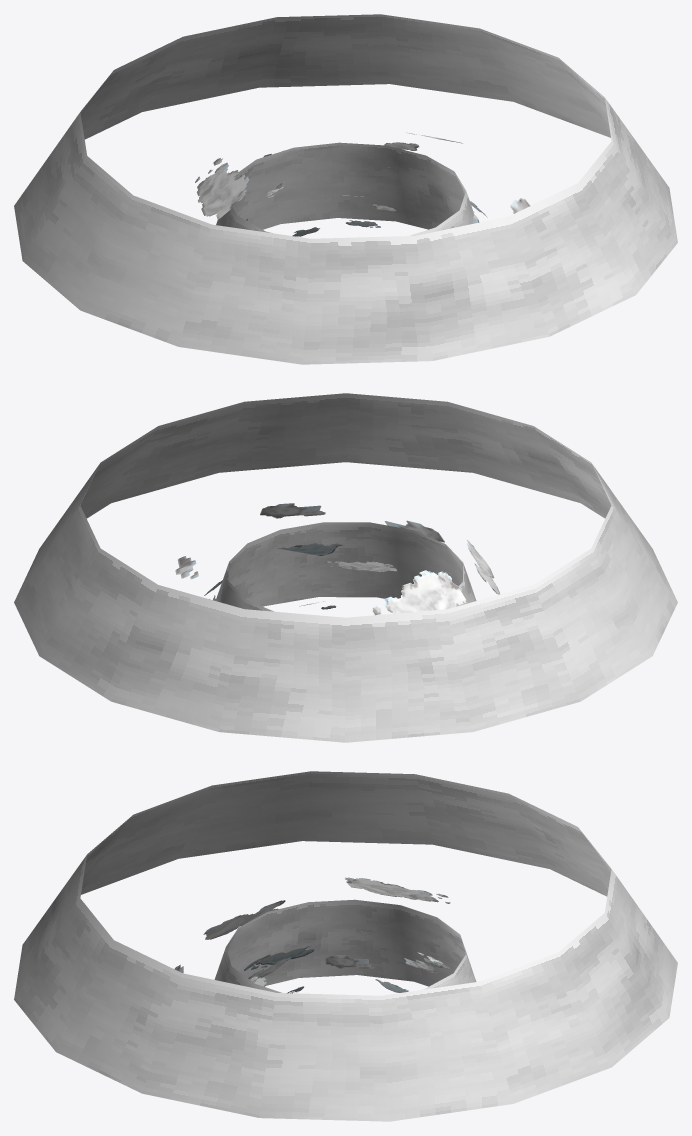
Rendered from Clouds.fbx.
The picture shows the model from 3 angles, top to bottom: view 1: azimuth 30°, elevation 25°; view 2: azimuth 150°, elevation 25°; view 3: azimuth 270°, elevation 25°; orthographic projection.
Visible parts, largest first — view 1: Clouds, Clouds_Back; view 2: Clouds, Clouds_Back, Plane_2; view 3: Clouds, Clouds_Back.
Part boxes in pixels (box(x1,y1,x2,y2)): Clouds: box(14, 14, 677, 364); Clouds_Back: box(195, 132, 530, 223); Clouds: box(14, 393, 677, 742); Clouds_Back: box(175, 503, 499, 615); Plane_2: box(324, 561, 396, 571); Clouds: box(14, 771, 677, 1121); Clouds_Back: box(174, 877, 450, 972).
Bounding box in the file's own units: 75363 × 19400 × 75363.
2 materials, 2 textured.
